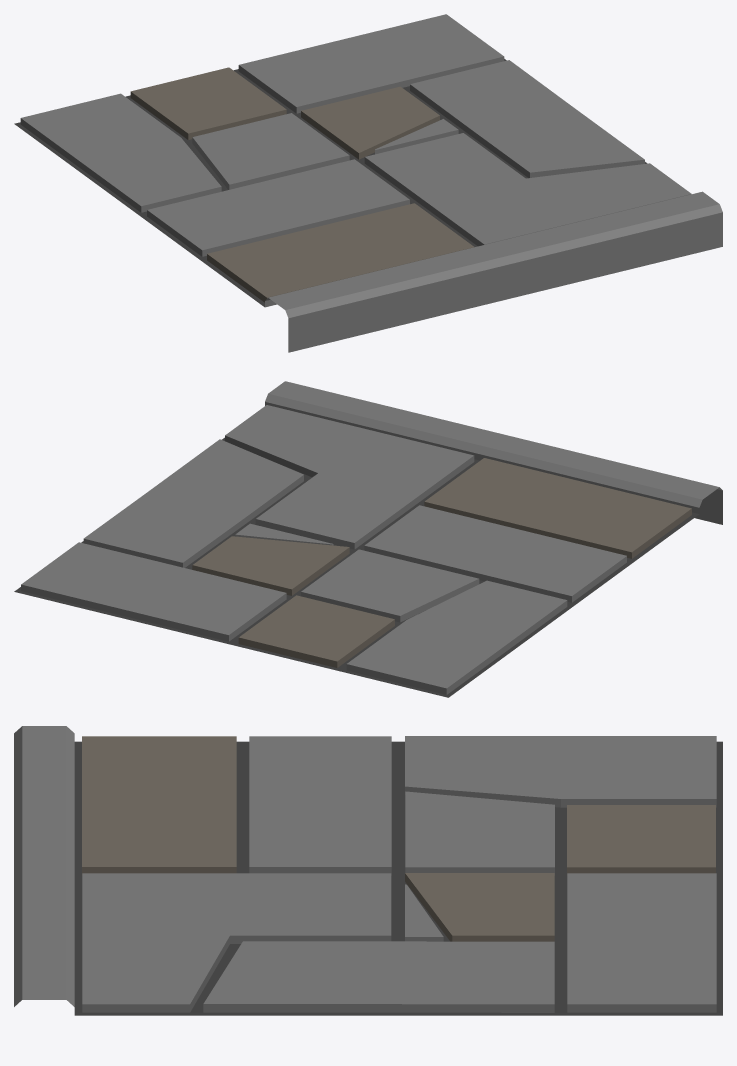
File: Walkway Modern C - 2.fbx
3 renders of one model, top to bottom at view 1: azimuth 30°, elevation 25°; view 2: azimuth 150°, elevation 25°; view 3: azimuth 270°, elevation 25°, orthographic. The views are drawn at different scales.
Visible parts, largest first — view 1: Walkway Modern C - 2.000; view 2: Walkway Modern C - 2.000; view 3: Walkway Modern C - 2.000.
Boxes of the visible parts, bbox=[...] form: Walkway Modern C - 2.000: bbox=[14, 14, 722, 352]; Walkway Modern C - 2.000: bbox=[14, 381, 722, 697]; Walkway Modern C - 2.000: bbox=[14, 726, 722, 1015].
Size of the model in its own units: 305 by 333 by 27.01.
